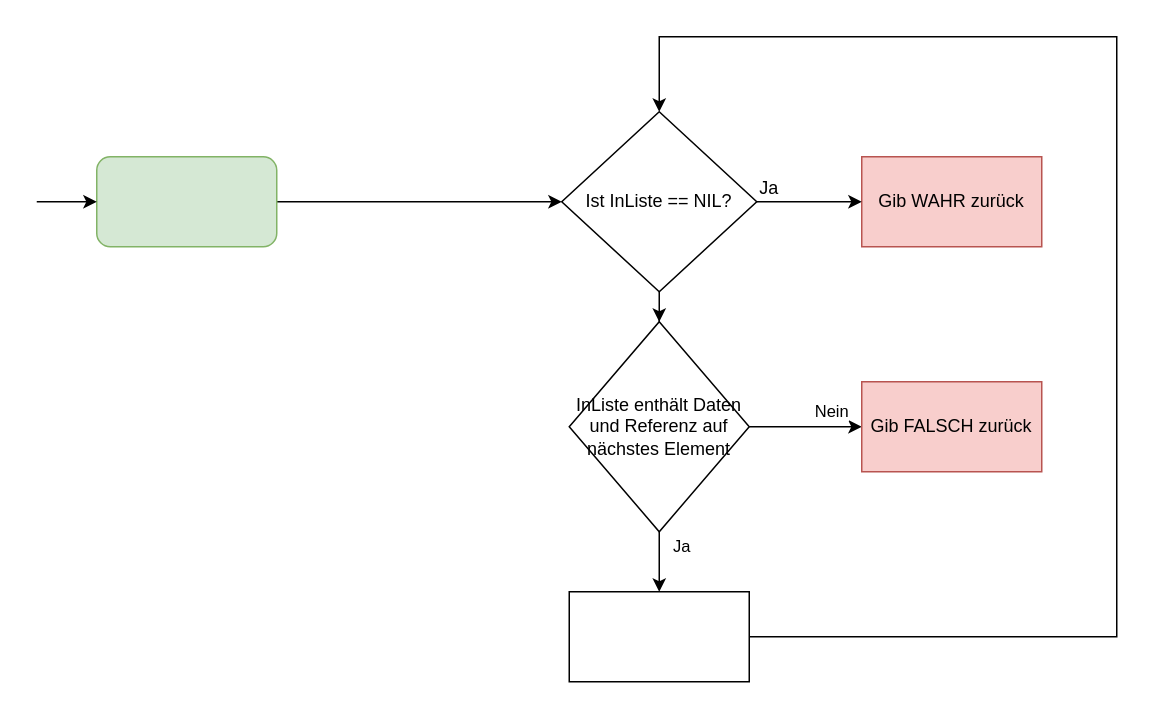
Image size: 1155x708. Some labels were removed from this diagram. Here are the shapes that lost their labels. From the top down, the box of each, then its label:
(95, 155, 277, 247): is_a_list Input: InListe
(568, 590, 749, 682): InListe = Nächstes Element
